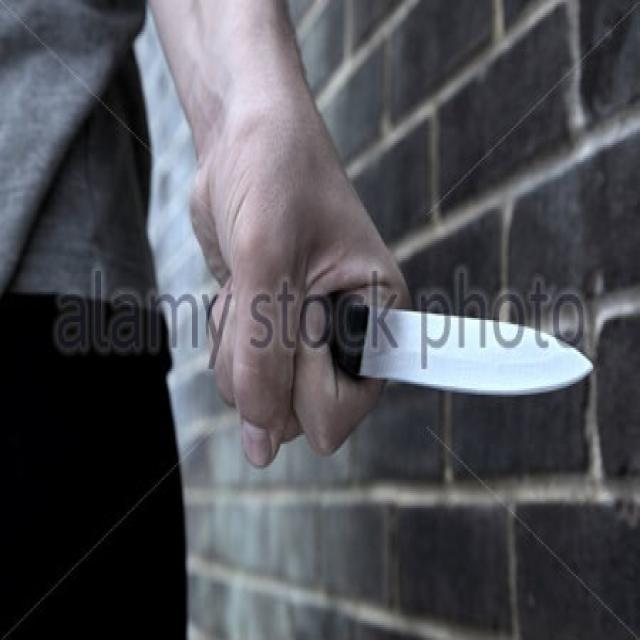knife: (344, 292, 597, 419)
